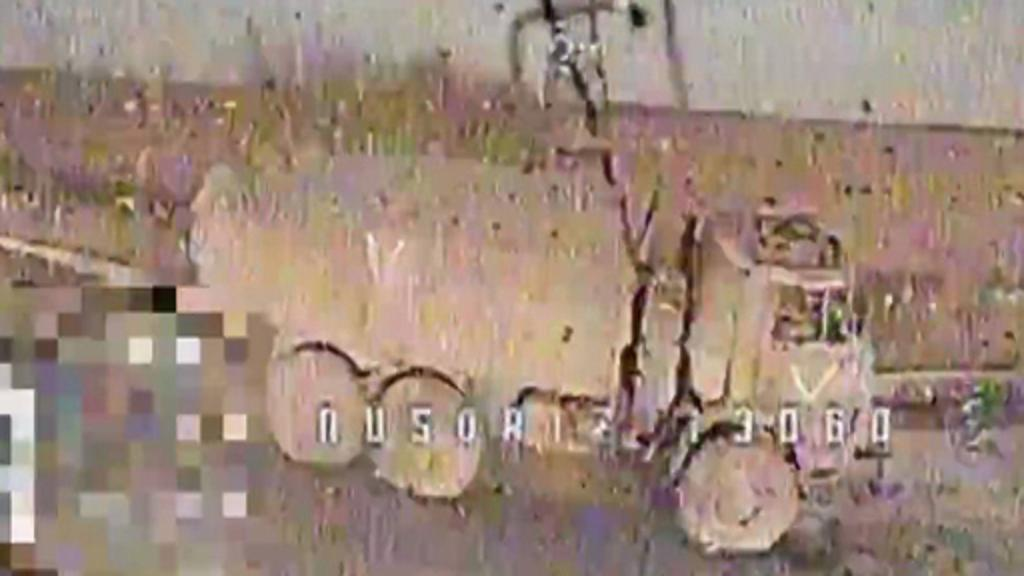TRUCK: (174, 134, 880, 556)
